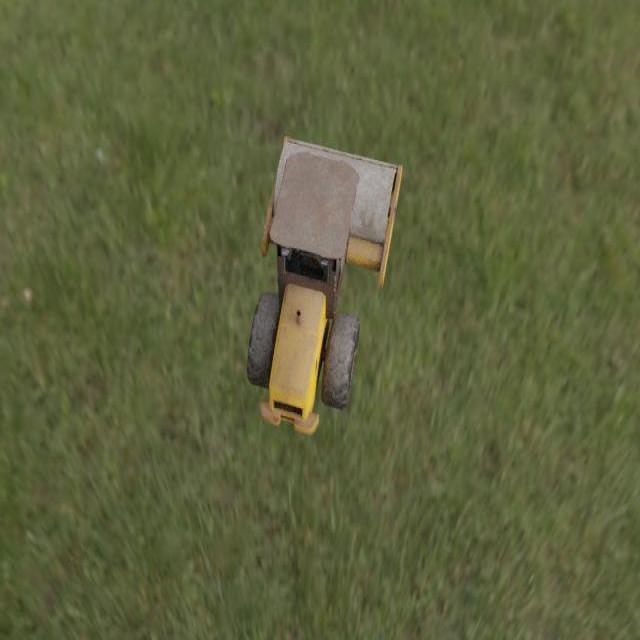Roller: (246, 136, 402, 435)
